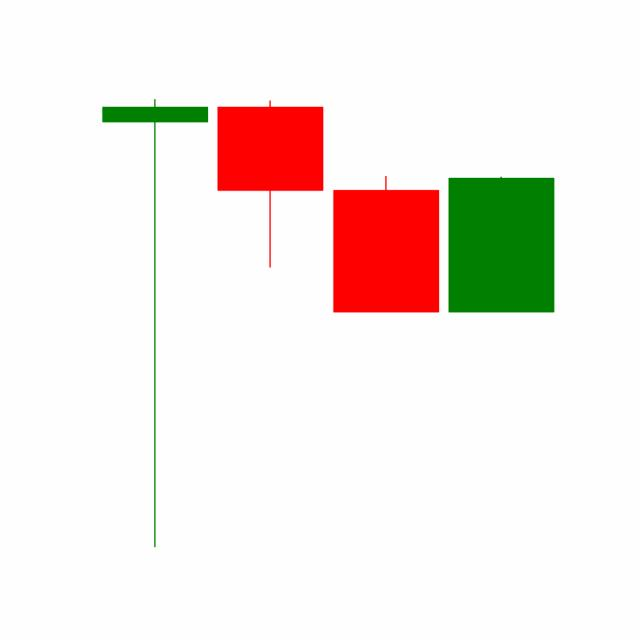Marubozu: (443, 174, 559, 313)
